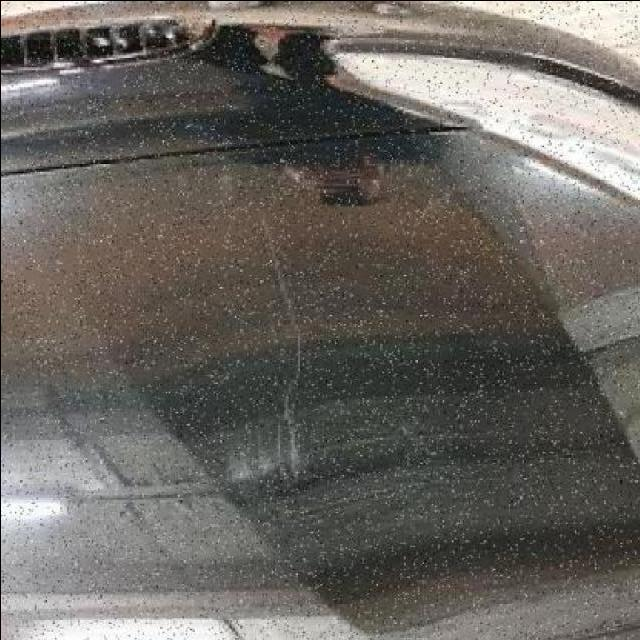bonnet-dent: (3, 37, 637, 640)
